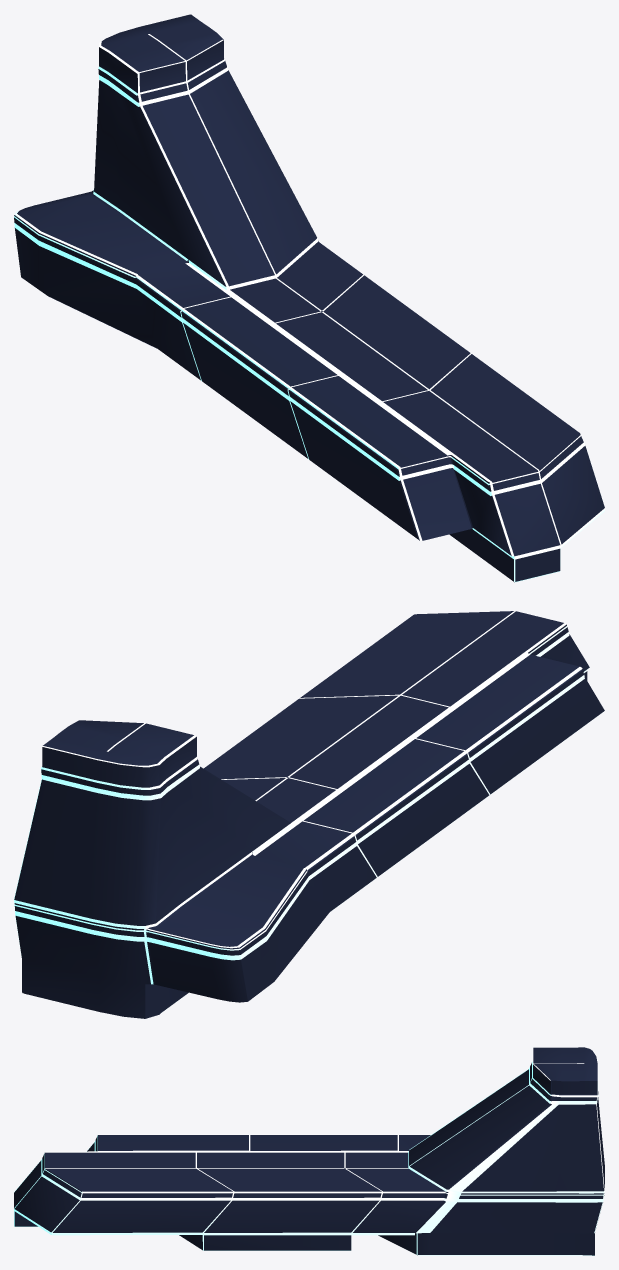
File: City_00.fbx
The picture shows the model from 3 angles, top to bottom: view 1: azimuth 30°, elevation 25°; view 2: azimuth 150°, elevation 25°; view 3: azimuth 270°, elevation 25°; orthographic projection. The views are drawn at different scales.
Parts seen in each view (by area): view 1: City_00; view 2: City_00; view 3: City_00.
Part boxes in pixels (x1,y1,x2,y2): City_00: [14, 14, 604, 582]; City_00: [14, 611, 604, 1018]; City_00: [14, 1047, 604, 1255].
Bounding box in the file's own units: 451 × 508 × 1619.
